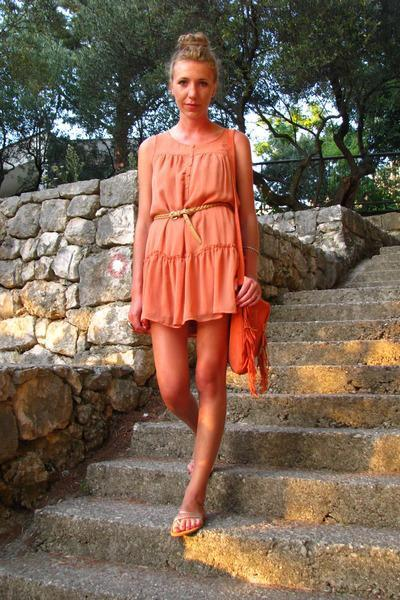bag: (230, 296, 270, 399)
dress: (129, 132, 251, 323)
shoe: (170, 505, 194, 535)
